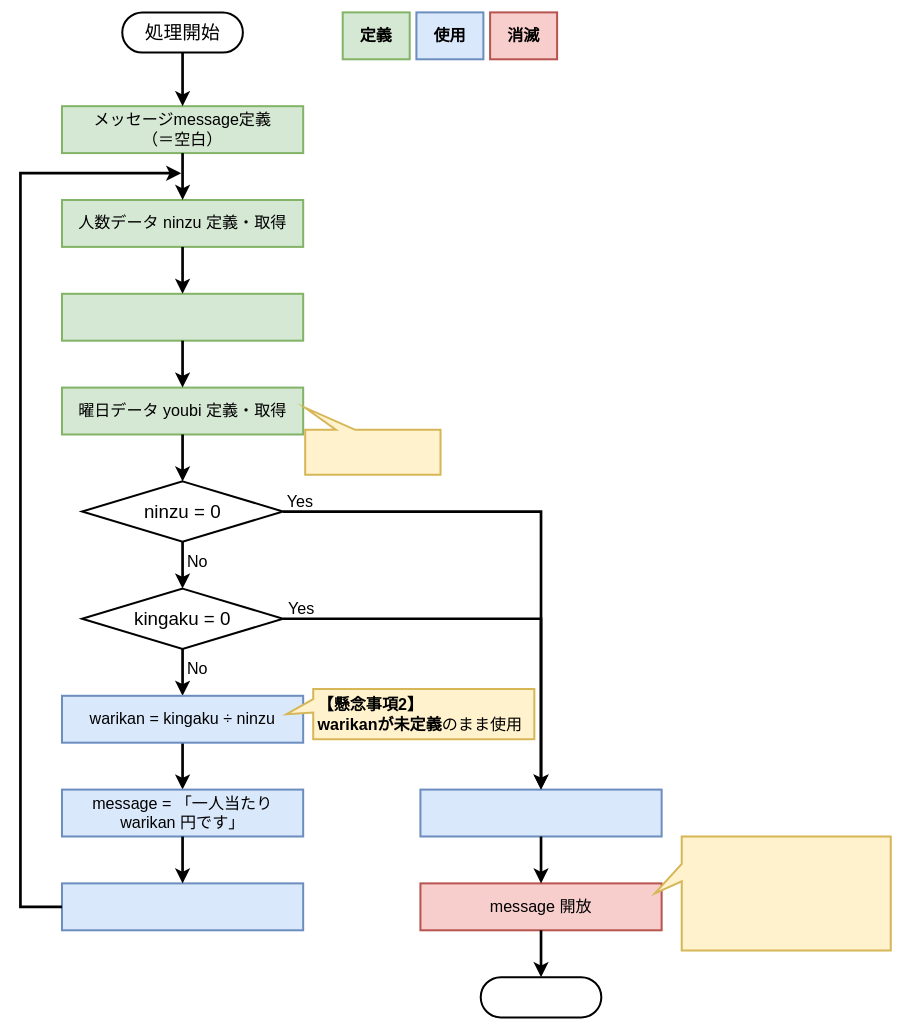
Image size: 903x1030. Some labels were removed from this diagram. Here are the shapes that lost their labels. From the top down, the box of each, then its label:
(61, 292, 304, 341): 金額データ kingaku 定義・取得
(304, 406, 441, 475): 【懸念事項1】 youbiが未使用
(419, 788, 662, 837): message = 「必要なデータが 設定されていません」
(61, 882, 304, 931): message 出力
(654, 835, 891, 951): 【懸念事項3】 この開放がない場合、モジュール再実行時に「使用→定義」として扱われ、エラーとなる場合がある。
(479, 976, 602, 1018): 処理終了
